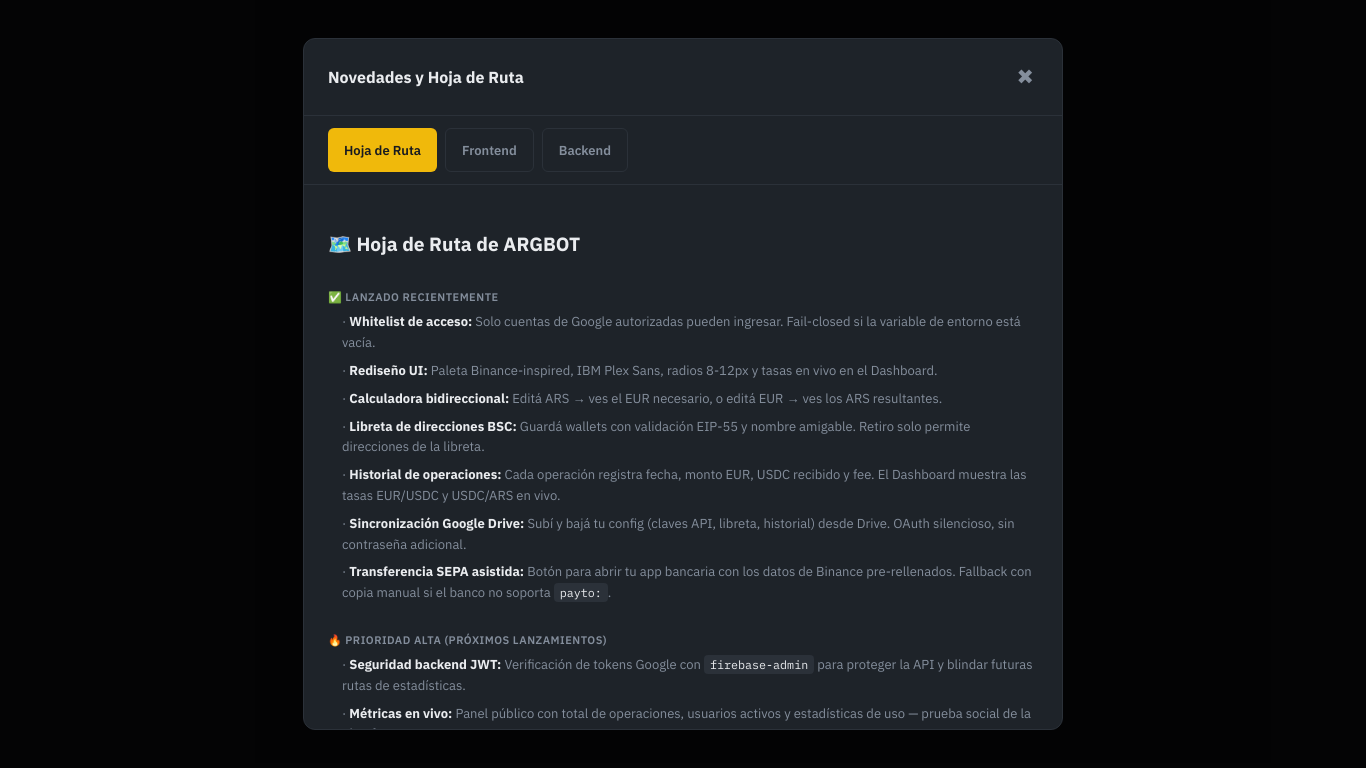
Test case: Updates › cambia al tab Frontend y muestra el changelog del front
The width and height of the screenshot is (1366, 768).
Step 1. Click the button "Frontend" → (489, 150), box x1=445 y1=128 x2=534 y2=172
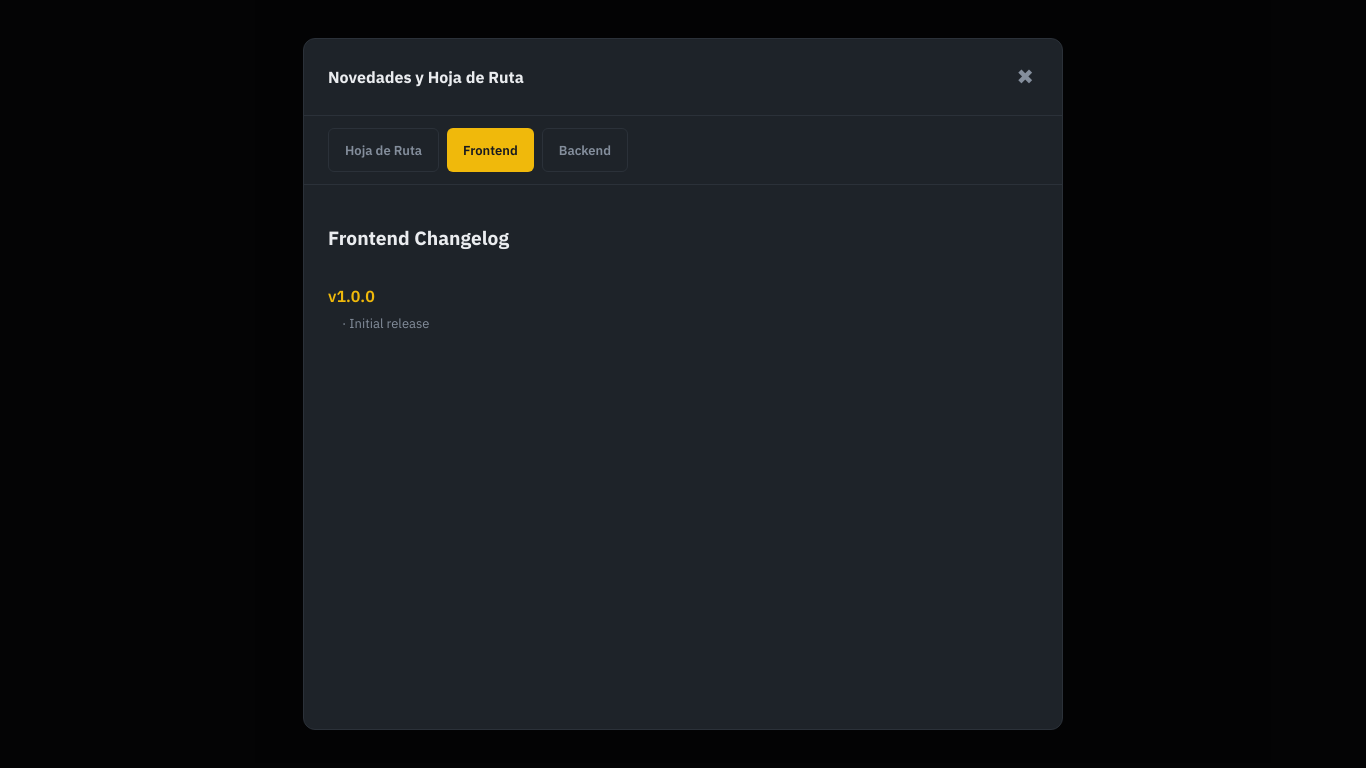
expect the heading "Frontend Changelog" is shown: met, box x1=328 y1=225 x2=509 y2=250
